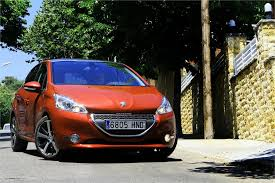car: (9, 59, 178, 162)
